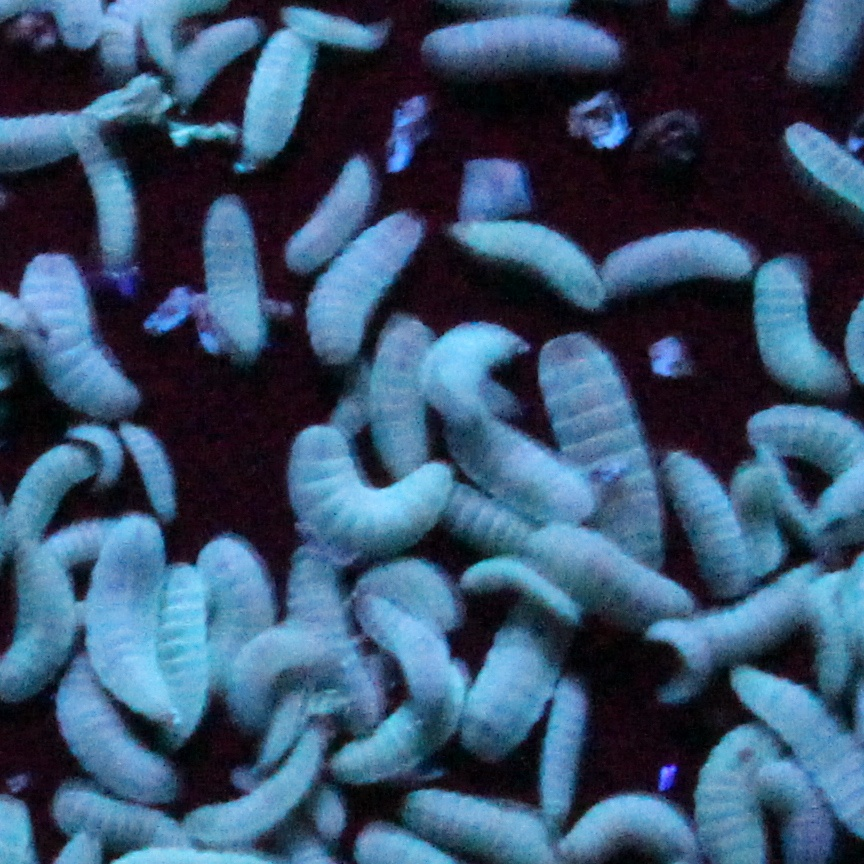larve: (525, 324, 677, 571), (435, 321, 600, 531), (637, 581, 817, 701), (275, 426, 440, 556), (90, 519, 187, 731), (305, 209, 427, 376), (57, 644, 182, 801), (27, 254, 142, 416), (180, 736, 337, 851), (460, 594, 565, 754), (192, 189, 277, 384), (735, 244, 842, 394), (447, 216, 610, 314), (320, 676, 457, 791), (657, 451, 762, 599), (427, 9, 630, 84), (370, 306, 442, 501), (210, 614, 332, 721), (202, 534, 277, 704), (360, 601, 472, 709), (50, 784, 202, 861), (345, 564, 472, 656), (232, 26, 310, 174), (295, 151, 380, 279), (145, 571, 222, 704), (592, 224, 757, 286), (112, 406, 192, 519), (285, 556, 352, 671), (190, 14, 252, 121), (12, 451, 92, 529), (72, 421, 125, 496)
